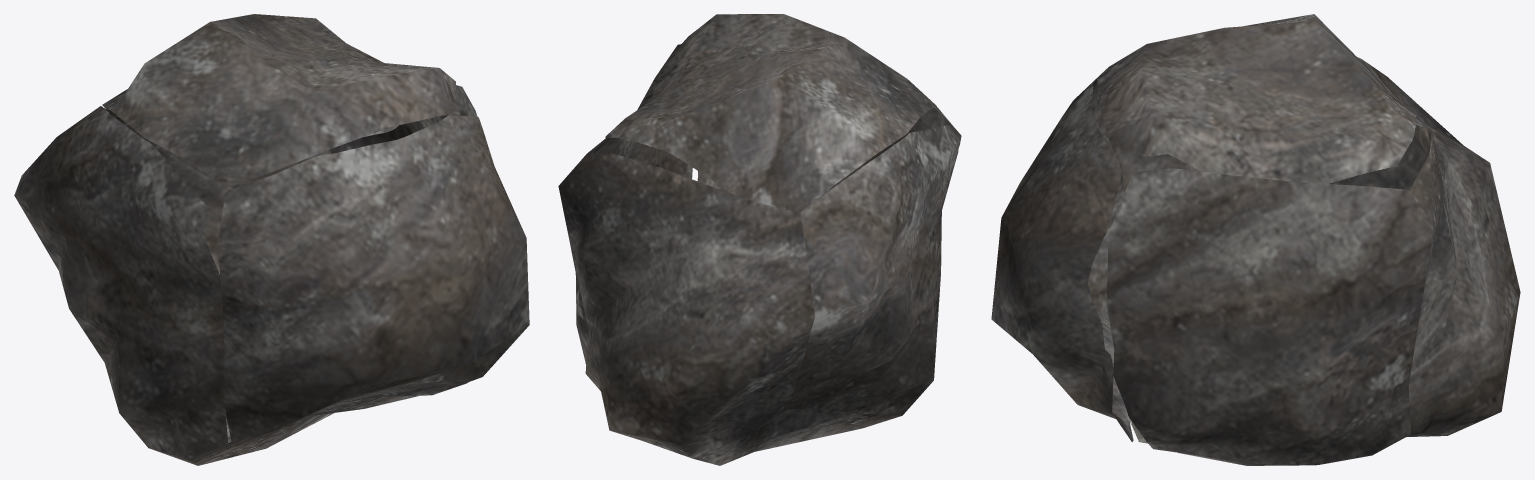
The model's file is Rock4.FBX.
3 renders of one model, left to right at view 1: azimuth 30°, elevation 25°; view 2: azimuth 150°, elevation 25°; view 3: azimuth 270°, elevation 25°, orthographic. The views are drawn at different scales.
Visible parts, largest first — view 1: rockLP001; view 2: rockLP001; view 3: rockLP001.
Boxes of the visible parts, x1,y1,x2,y2 form: rockLP001: [14, 14, 529, 465]; rockLP001: [558, 14, 961, 465]; rockLP001: [991, 14, 1520, 465].
Bounding box in the file's own units: 2.23 × 2.36 × 2.75.
Materials: 1 (1 with a texture image).
